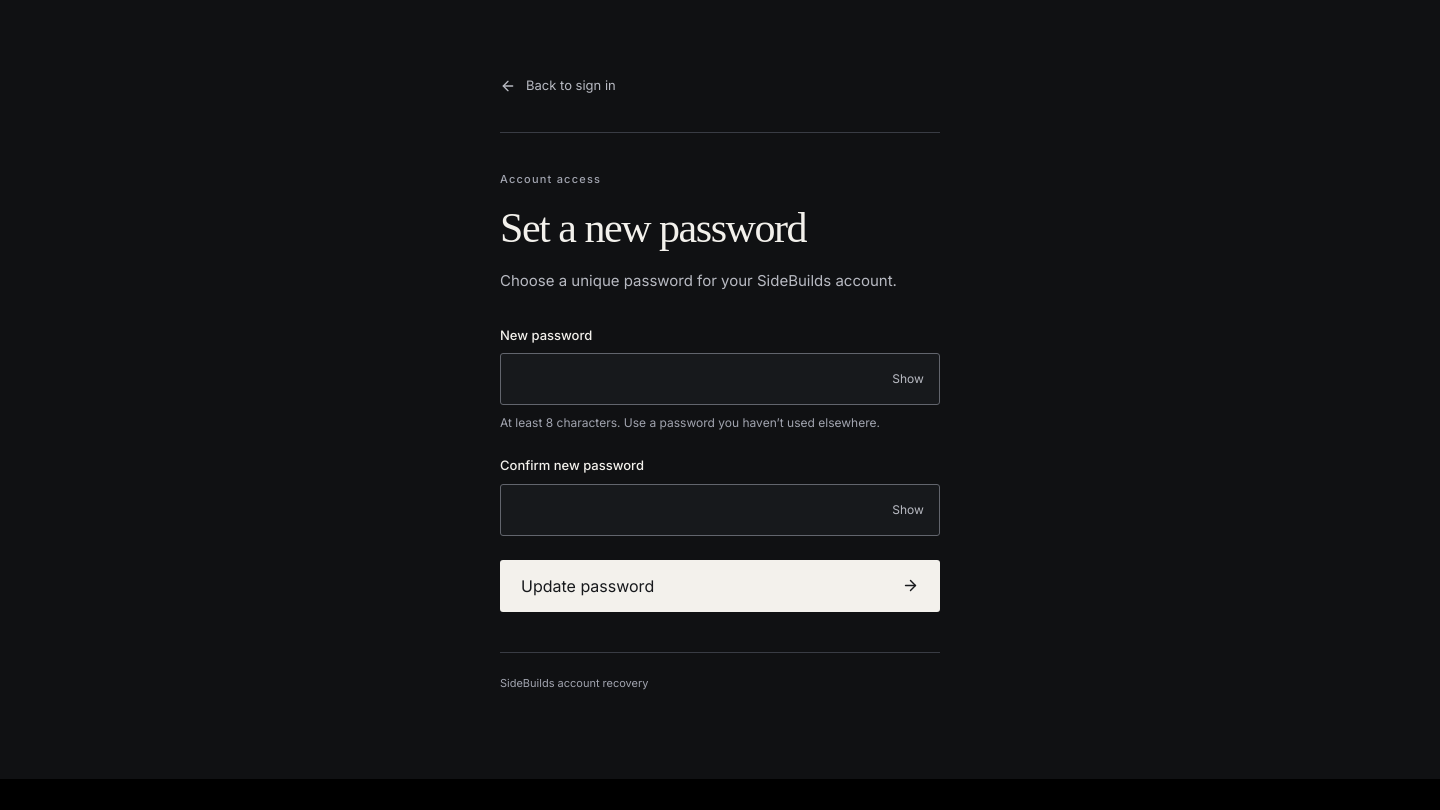
Test case: expiry during entry removes passwords and offers recovery
In the password field labelled "New password": (720, 379) [500,353,940,405], type "Synthetic-password-2026!"
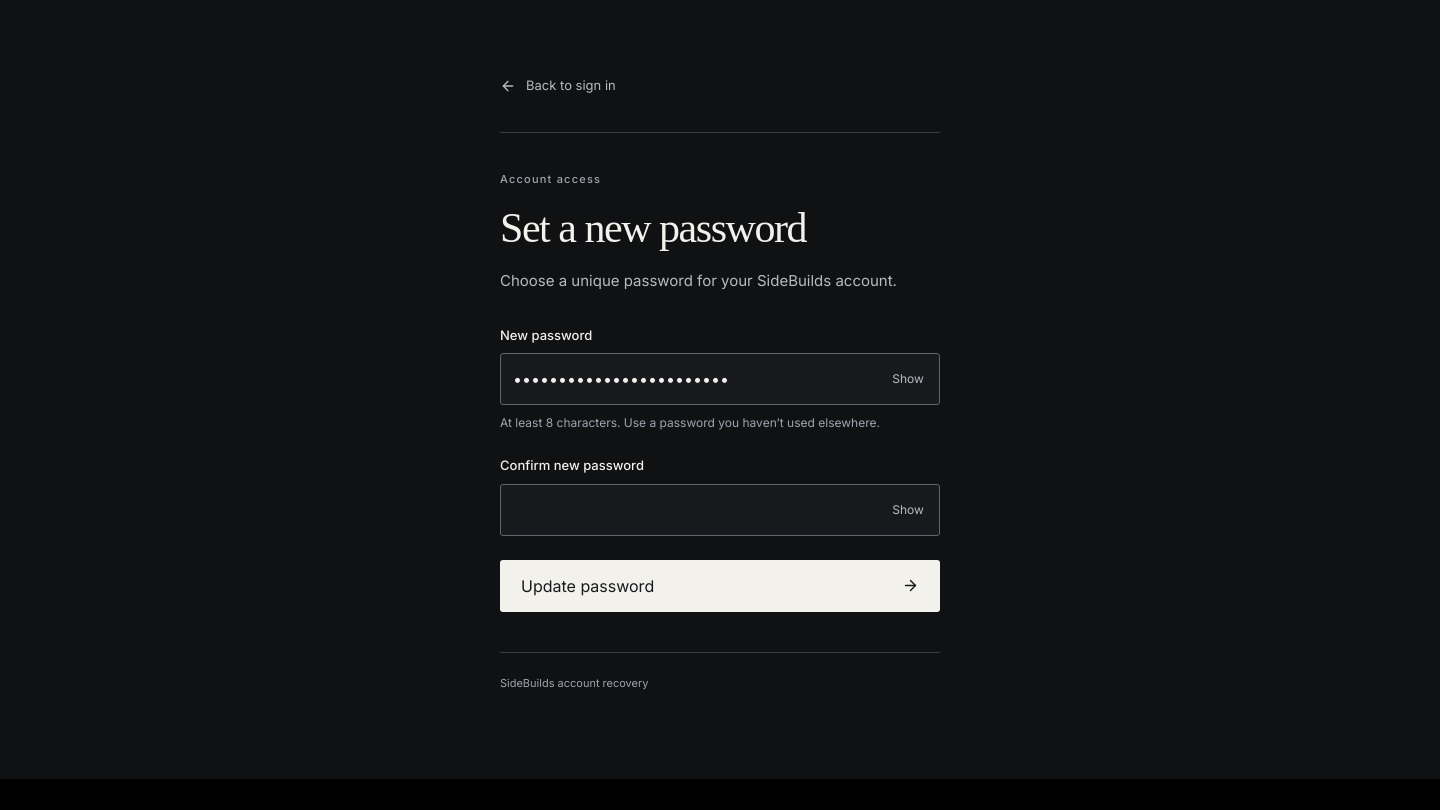
In the password field labelled "Confirm new password": (720, 510) [500,484,940,536], type "Synthetic-password-2026!"
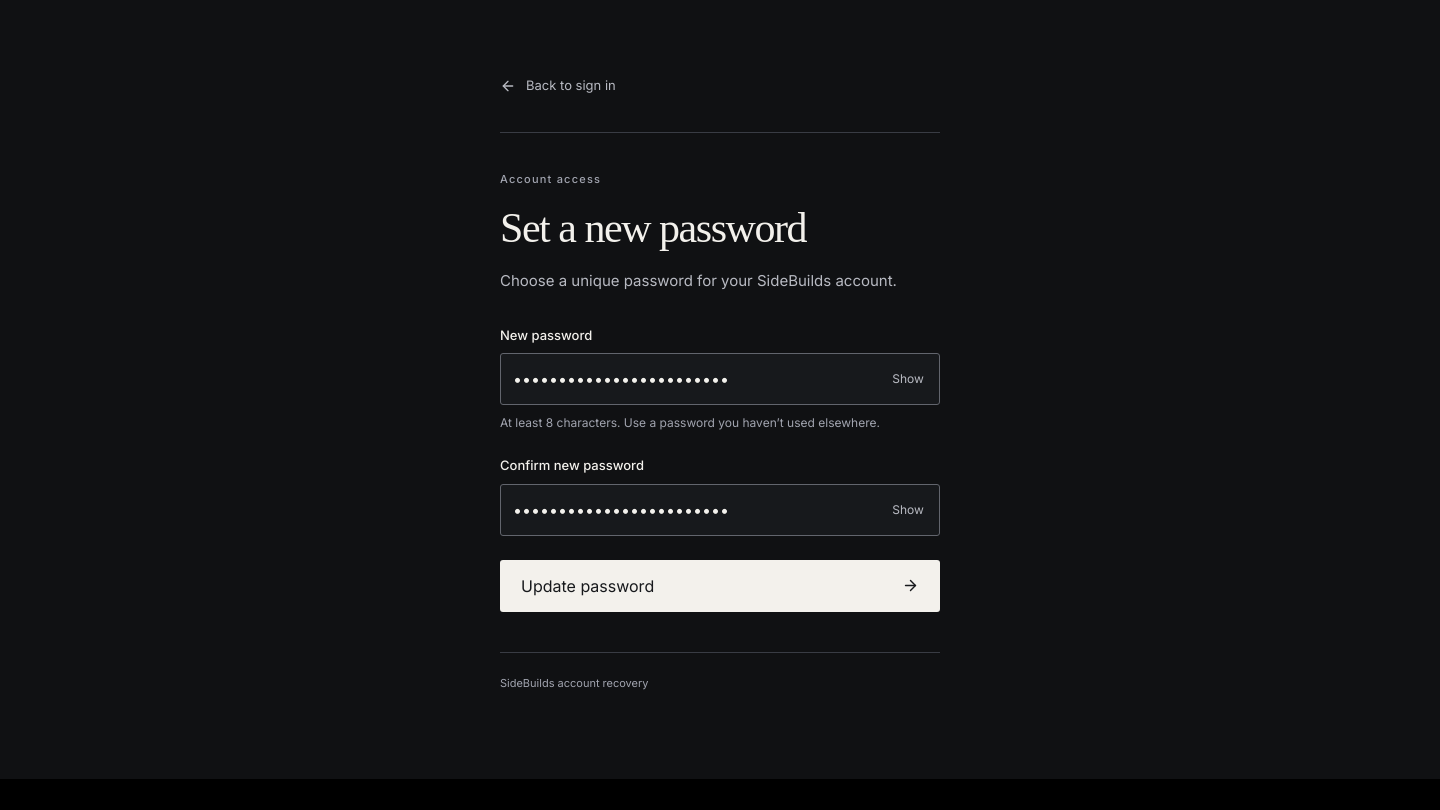
Click the button "Update password": (588, 586) [500,560,940,612]
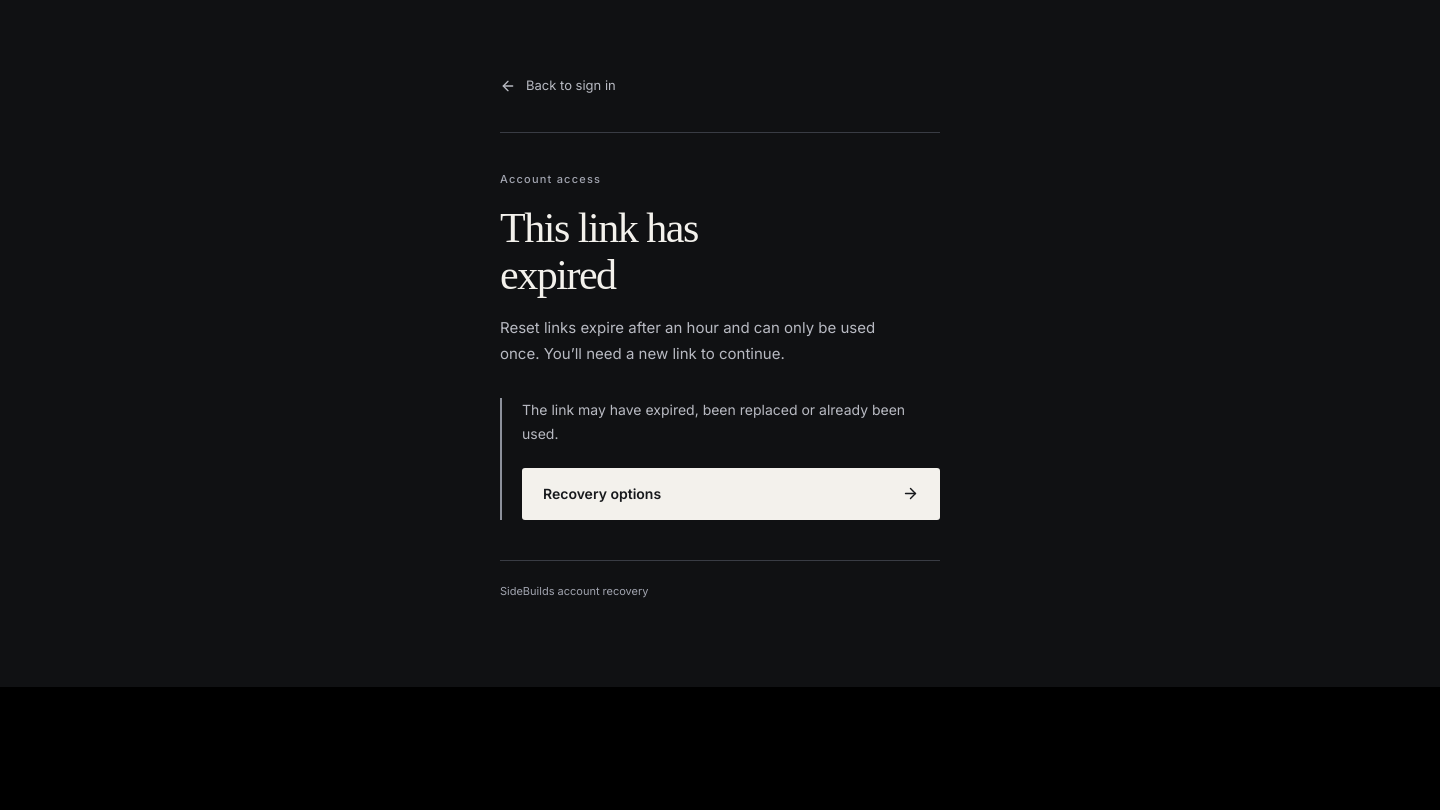
Now the heading "This link has expired" is shown, box [500,205,698,298]
Now the heading labelled "new password" is gone
